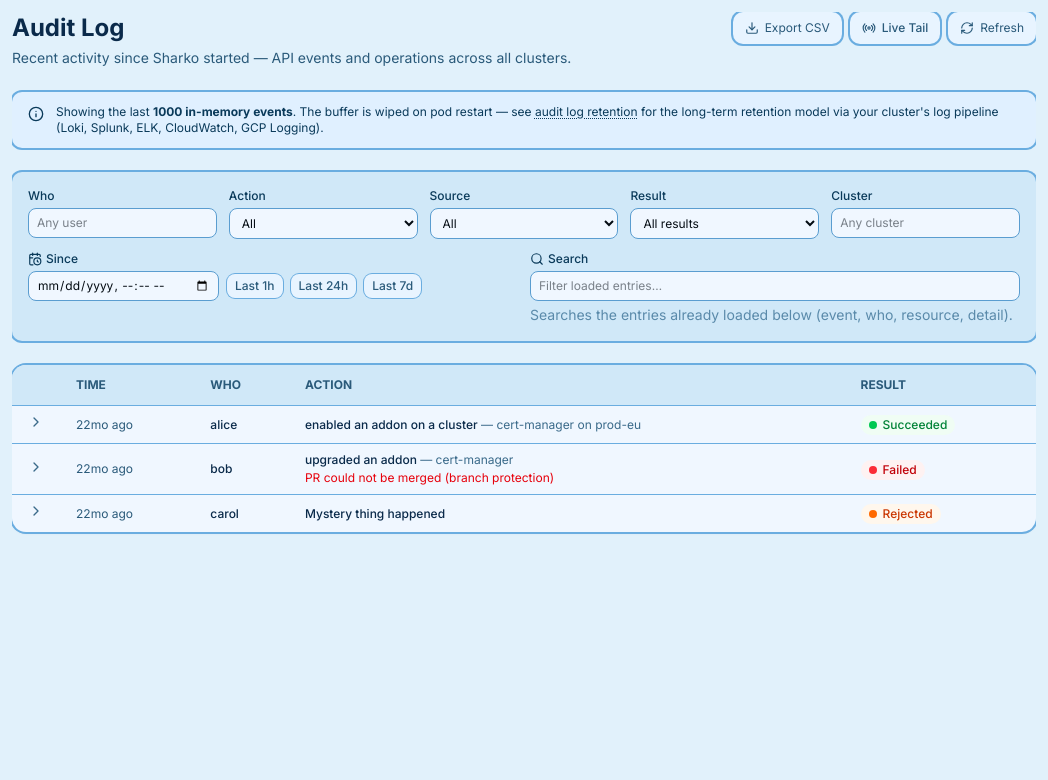
AuditViewer › search filters the loaded entries client-side (no server fetch)
Expected: the text "enabled an addon on a cluster" is shown, [305, 416, 478, 432]
Type "mystery" into the field with placeholder "Filter loaded entries…".
click(775, 286); type("mystery")  # box [530, 271, 1020, 301]
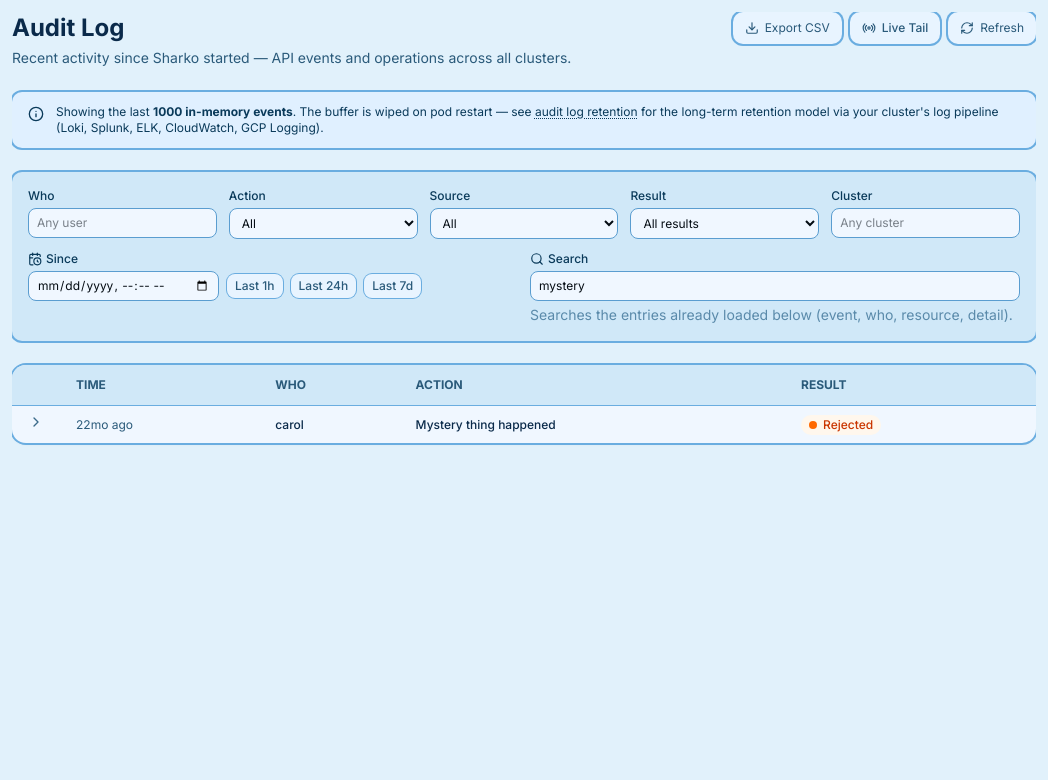
Expected: the text "Mystery thing happened" is shown, [416, 416, 556, 432]
Now the text "enabled an addon on a cluster" is gone
